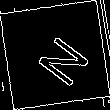N_NW: (22, 24, 88, 86)
